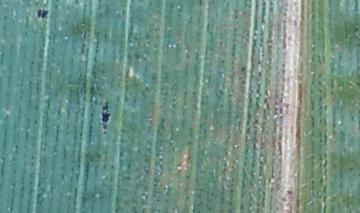tarspot: (99, 100, 113, 136), (35, 7, 50, 20), (284, 187, 294, 197), (280, 196, 288, 204), (239, 65, 246, 73), (72, 1, 81, 6), (197, 1, 202, 8), (130, 1, 135, 5)
